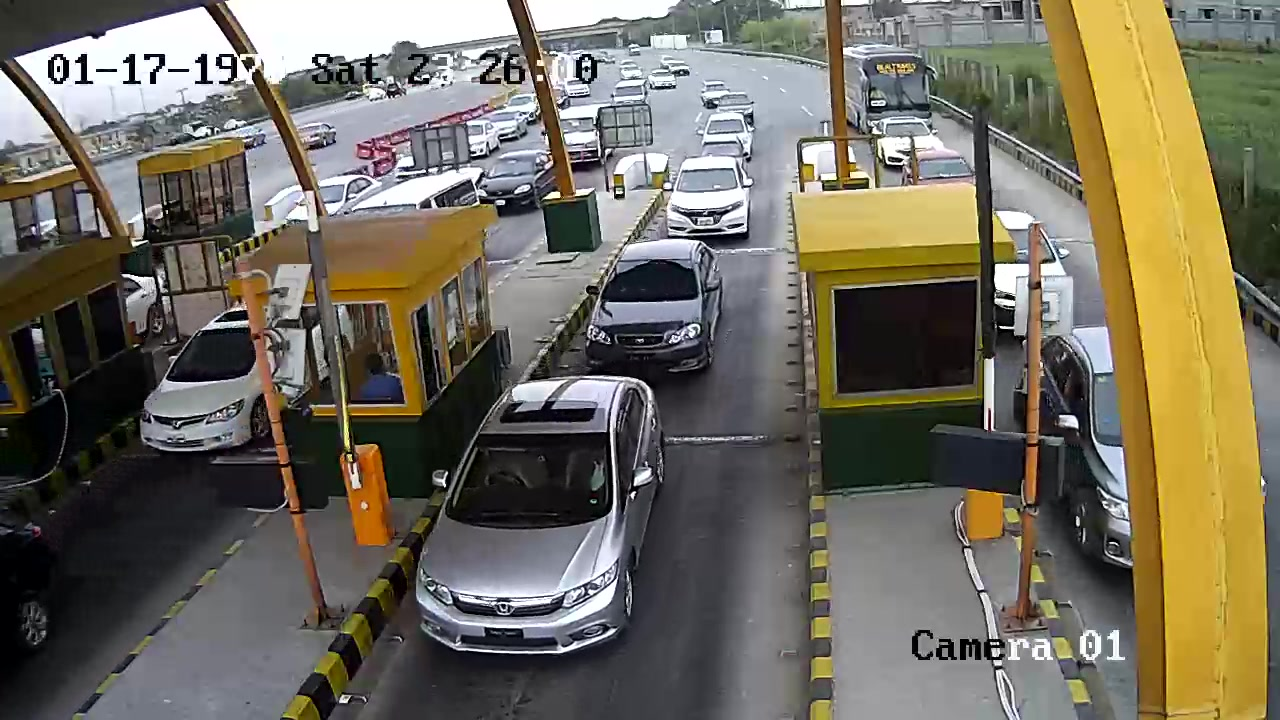F1: (408, 372, 693, 658), (577, 240, 737, 374)
